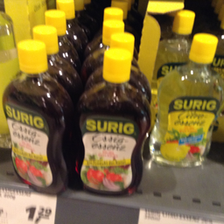vinegar: (74, 49, 150, 196), (3, 41, 70, 196), (152, 32, 222, 167)
